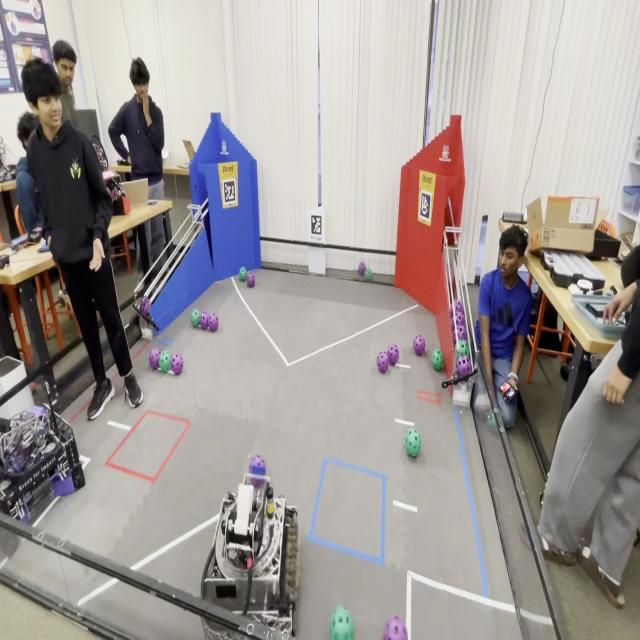artifact_green: (330, 606, 353, 639), (405, 428, 421, 457), (455, 355, 472, 378), (432, 349, 444, 371), (159, 351, 171, 372), (455, 340, 470, 356), (487, 411, 497, 429), (191, 310, 200, 327), (239, 267, 247, 281), (365, 268, 372, 281), (539, 490, 544, 508)
artifact_purple: (383, 616, 407, 639), (456, 356, 472, 377), (171, 354, 183, 376), (377, 352, 389, 373), (387, 344, 399, 365), (149, 348, 160, 369), (140, 296, 150, 318), (414, 336, 425, 355), (207, 314, 218, 331), (456, 325, 467, 340), (200, 312, 209, 329), (456, 312, 466, 325), (454, 299, 463, 313), (247, 272, 255, 287), (358, 262, 366, 276), (450, 302, 456, 318), (451, 322, 456, 339), (251, 479, 262, 486), (450, 304, 454, 321), (451, 317, 455, 332)
